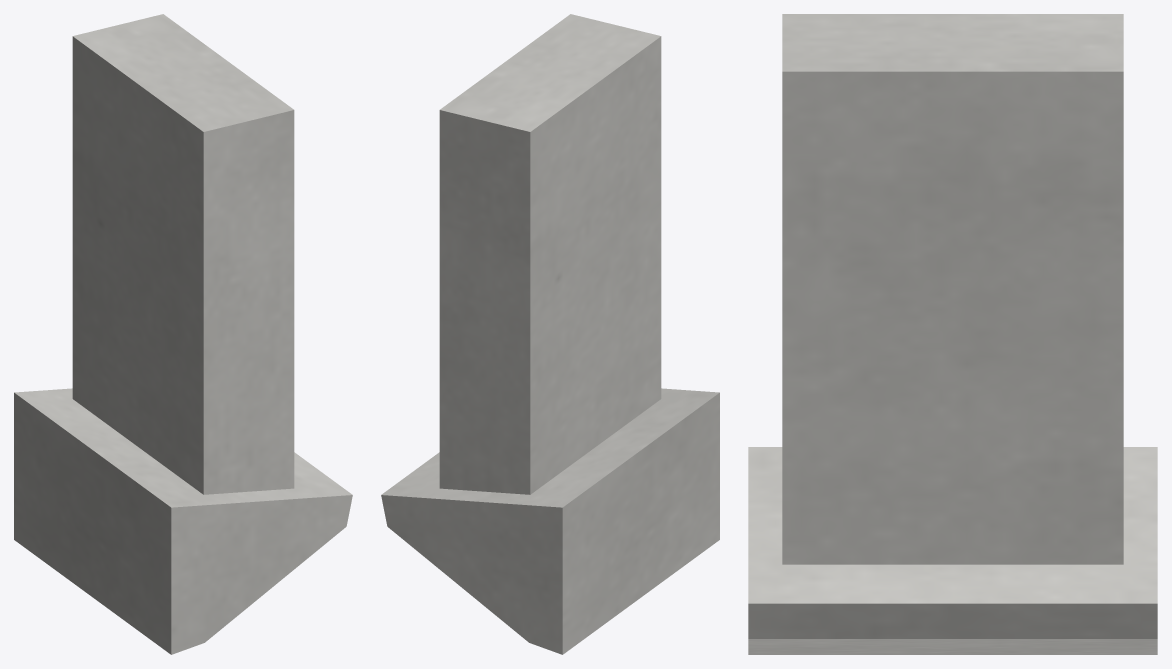
The model's file is flat_top_vent.glb.
3 views of the same model, side by side, from view 1: azimuth 30°, elevation 25°; view 2: azimuth 150°, elevation 25°; view 3: azimuth 270°, elevation 25° (orthographic). The views are drawn at different scales.
Parts seen in each view (by area): view 1: Cube.001; view 2: Cube.001; view 3: Cube.001.
Boxes of the visible parts, x1,y1,x2,y2 form: Cube.001: (14,14,352,654); Cube.001: (381,14,719,654); Cube.001: (748,14,1157,654).
Bounding box in the file's own units: 4 × 10.57 × 6.
Materials: 1 (1 with a texture image).
